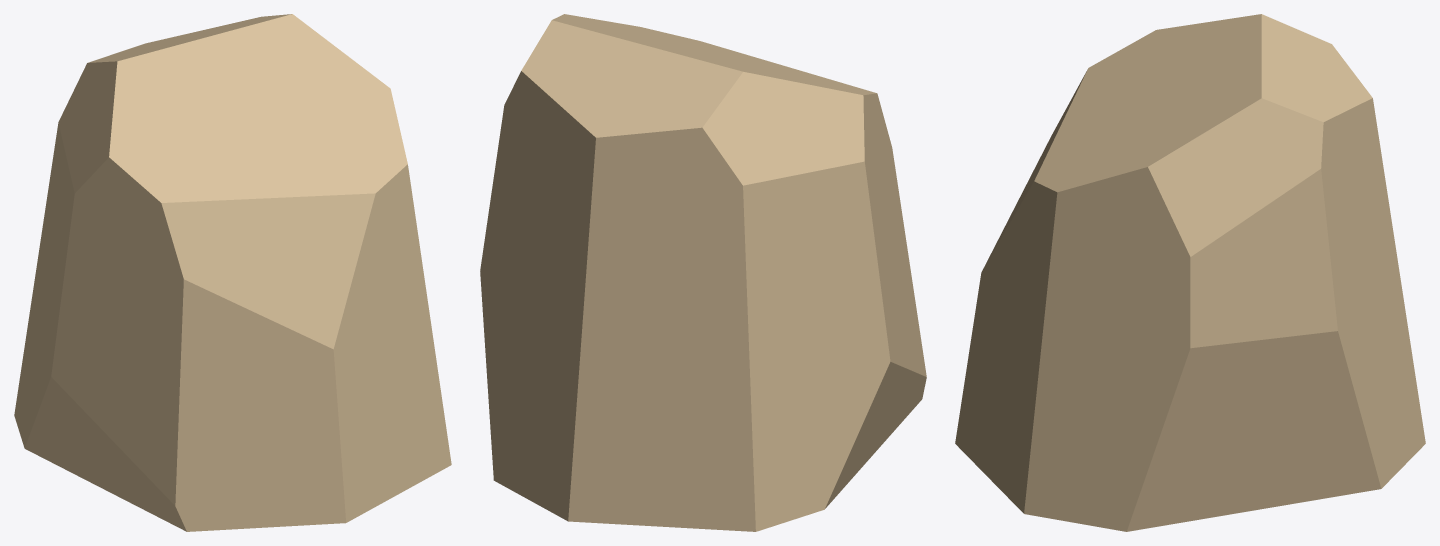
The model's file is roca10.glb.
3 renders of one model, left to right at view 1: azimuth 30°, elevation 25°; view 2: azimuth 150°, elevation 25°; view 3: azimuth 270°, elevation 25°, orthographic. The views are drawn at different scales.
Parts seen in each view (by area): view 1: small_rock_03_Cylinder_002; view 2: small_rock_03_Cylinder_002; view 3: small_rock_03_Cylinder_002.
Boxes of the visible parts, left/top/right/bottom form: small_rock_03_Cylinder_002: left=14, top=14, right=451, bottom=531; small_rock_03_Cylinder_002: left=480, top=14, right=926, bottom=531; small_rock_03_Cylinder_002: left=955, top=14, right=1425, bottom=531.
Size of the model in its own units: 0.3349 by 0.3401 by 0.3691.
